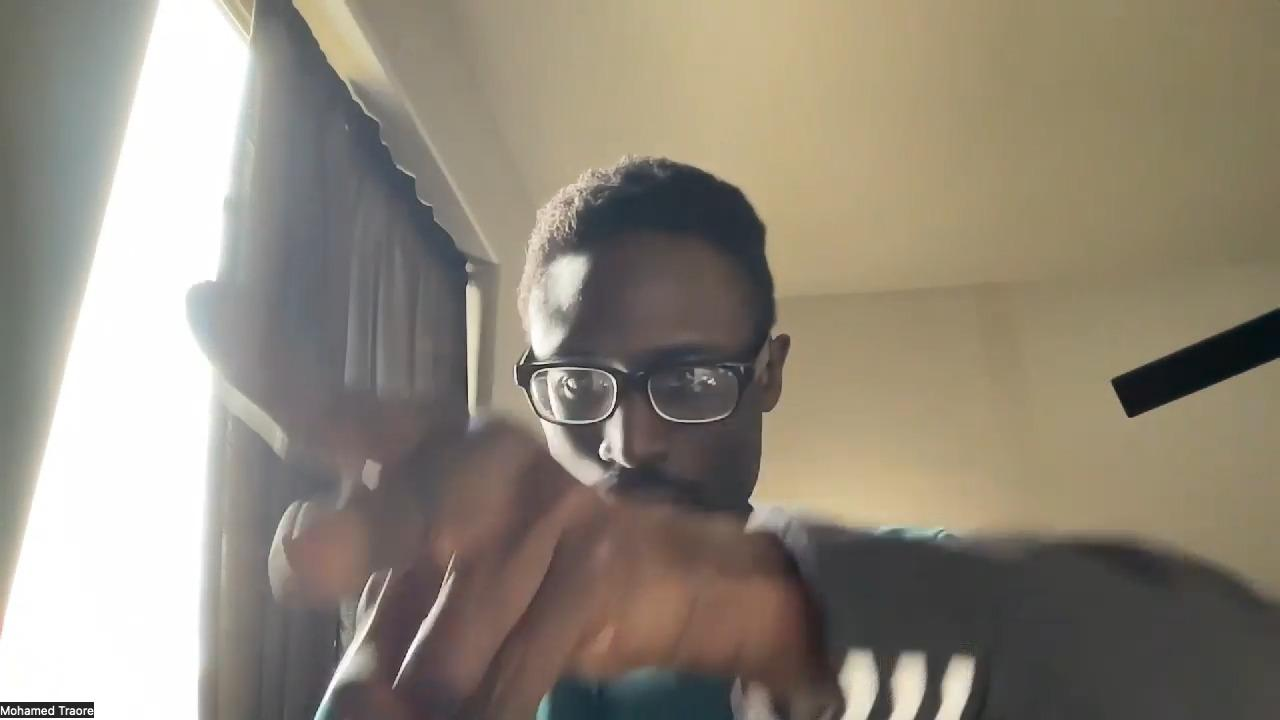Scissors: (190, 283, 636, 720)
